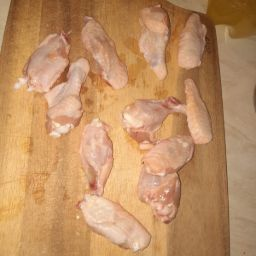Chicken: (14, 20, 217, 253), (16, 28, 92, 148), (120, 129, 194, 231), (64, 184, 160, 252), (69, 117, 131, 206), (76, 12, 132, 94), (136, 4, 182, 90), (167, 76, 218, 153), (117, 93, 174, 149), (172, 6, 213, 79)
